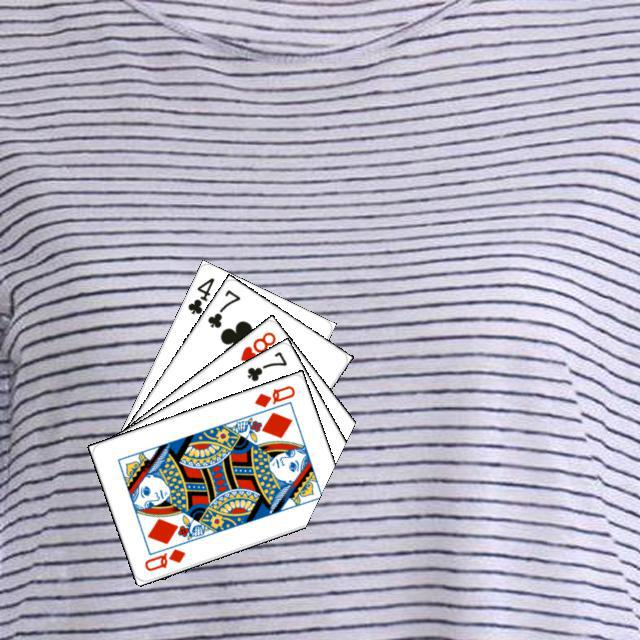4c: (183, 272, 216, 316)
7c: (202, 284, 242, 330), (242, 346, 289, 383)
8h: (235, 327, 278, 363)
Qd: (249, 380, 297, 409), (139, 544, 187, 573)
